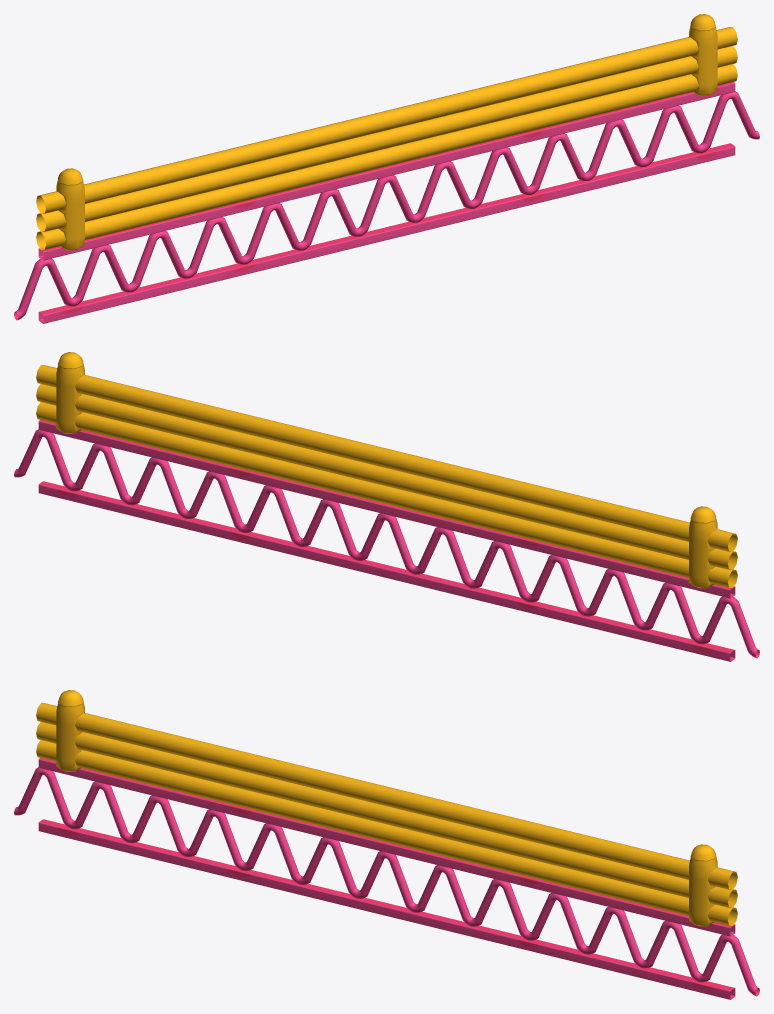
The model's file is GB_fence.fbx.
The picture shows the model from 3 angles, top to bottom: view 1: azimuth 30°, elevation 25°; view 2: azimuth 150°, elevation 25°; view 3: azimuth 330°, elevation 25°; orthographic projection.
Parts seen in each view (by area): view 1: fence; view 2: fence; view 3: fence.
Part boxes in pixels (x1,y1,x2,y2): fence: (14,14,759,323); fence: (14,352,759,661); fence: (14,690,759,999).
Size of the model in its own units: 857 by 160 by 30.
